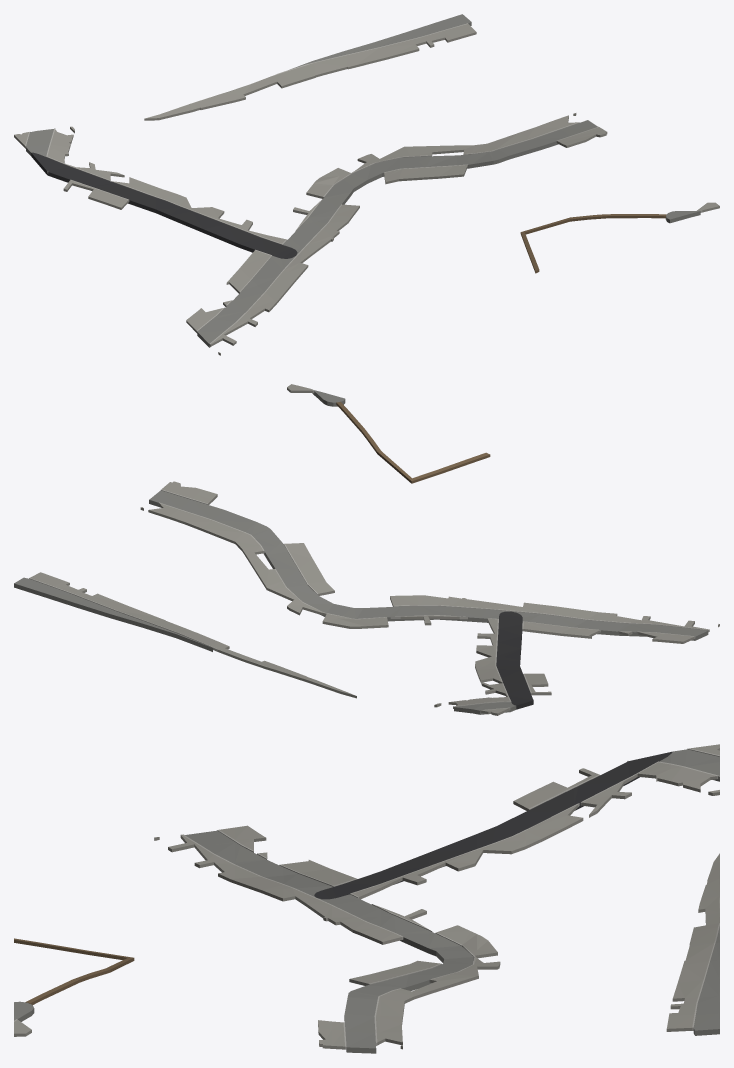
3 views of the same model, one above another, from view 1: azimuth 30°, elevation 25°; view 2: azimuth 150°, elevation 25°; view 3: azimuth 270°, elevation 25° (orthographic). The views are drawn at different scales.
Bounding box in the file's own units: 147 × 25.43 × 146.
